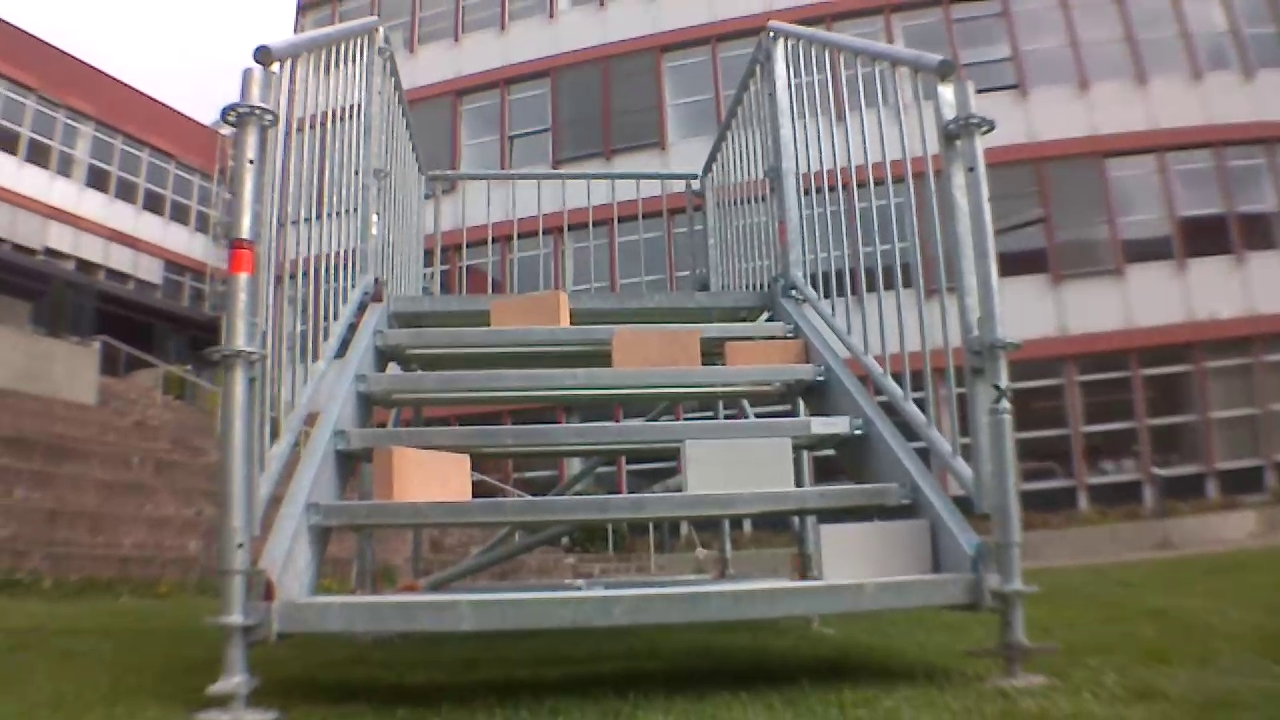brick: (817, 518, 931, 583), (682, 439, 794, 491), (373, 446, 470, 500), (612, 328, 700, 368), (490, 291, 568, 324), (725, 340, 805, 364)
edge: (275, 574, 981, 630), (306, 485, 909, 523), (335, 418, 865, 446), (353, 362, 830, 390), (375, 323, 799, 345), (386, 290, 777, 311)
stairs: (202, 16, 1057, 718)
steps: (262, 285, 990, 636)
